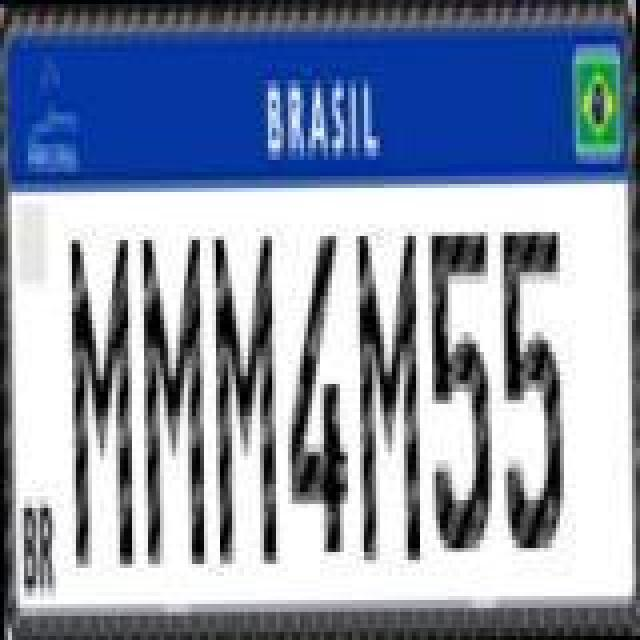4: (282, 226, 350, 558)
5: (426, 228, 494, 556), (500, 228, 564, 556)
M: (70, 234, 138, 574), (210, 232, 278, 568), (144, 236, 208, 572), (360, 230, 424, 562)
